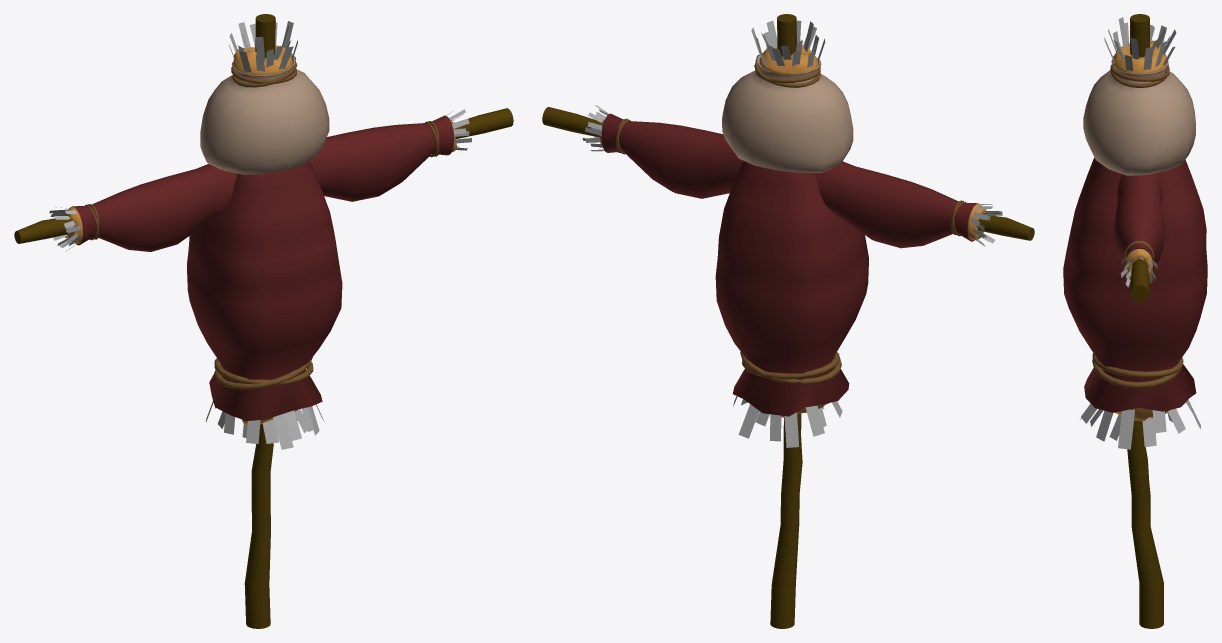
The model's file is Scarecrow.fbx.
The picture shows the model from 3 angles, left to right: view 1: azimuth 30°, elevation 25°; view 2: azimuth 150°, elevation 25°; view 3: azimuth 270°, elevation 25°; orthographic projection.
Visible parts, largest first — view 1: Body1, head1, R_Arm1, L_Arm1, Middle_stick1, Arm_stick1, Straw_blob, Rope3; view 2: Body1, head1, R_Arm1, L_Arm1, Middle_stick1, Arm_stick1, Straw_blob; view 3: Body1, head1, Middle_stick1, L_Arm1, Straw_blob (×2), Arm_stick1, Rope3, Rope2, pPlane6, Straw_blob1, pPlane5, Rope1 (+4 smaller).
Part boxes in pixels (x1,y1,x2,y2): Body1: (187, 162, 342, 420); head1: (200, 53, 329, 174); R_Arm1: (70, 164, 236, 251); L_Arm1: (309, 115, 454, 201); Middle_stick1: (244, 14, 275, 628); Arm_stick1: (14, 108, 513, 243); Straw_blob: (233, 45, 292, 75); Rope3: (214, 357, 312, 389); Body1: (715, 161, 868, 416); head1: (722, 53, 853, 172); R_Arm1: (815, 161, 978, 248); L_Arm1: (601, 113, 743, 198); Middle_stick1: (770, 14, 802, 628); Arm_stick1: (542, 107, 1034, 240); Straw_blob: (759, 45, 818, 75); Body1: (1063, 157, 1207, 412); head1: (1083, 55, 1195, 175); Middle_stick1: (1127, 14, 1163, 628); L_Arm1: (1114, 173, 1164, 279); Straw_blob (×2): (1113, 40, 1169, 420); Arm_stick1: (1130, 259, 1149, 302); Rope3: (1092, 353, 1183, 377); Rope2: (1092, 357, 1183, 388); pPlane6: (1118, 409, 1134, 449); Straw_blob1: (1125, 248, 1152, 279); pPlane5: (1142, 417, 1156, 447); Rope1: (1110, 64, 1169, 81).
Bounding box in the file's own units: 209 × 248 × 53.61.
